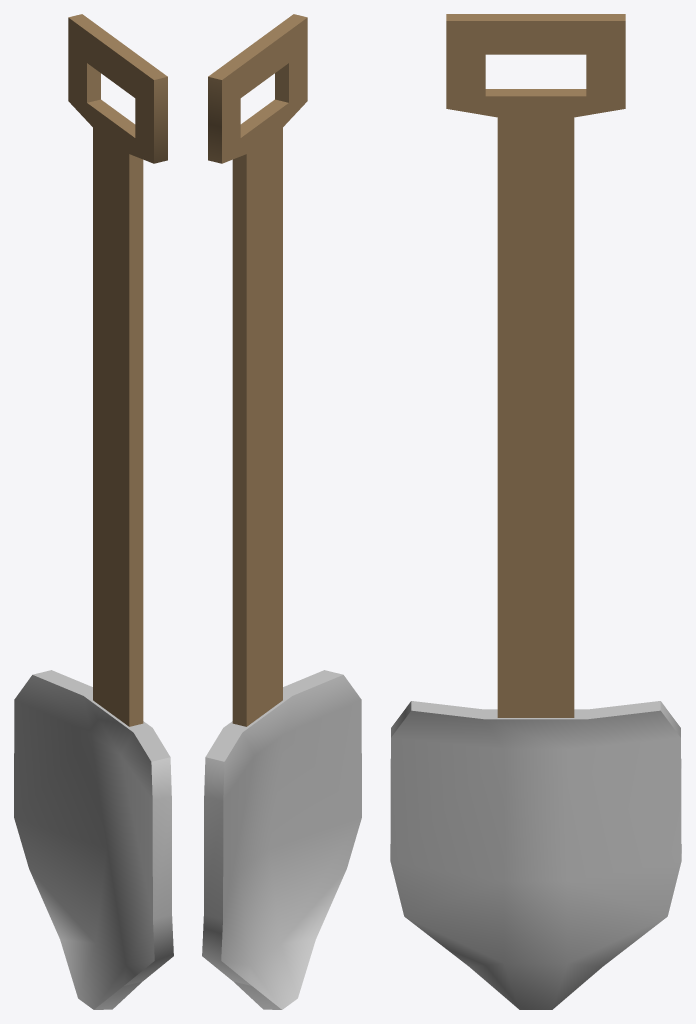
Rendered from shovel.fbx.
The picture shows the model from 3 angles, left to right: view 1: azimuth 30°, elevation 25°; view 2: azimuth 150°, elevation 25°; view 3: azimuth 270°, elevation 25°; orthographic projection. The views are drawn at different scales.
Visible parts, largest first — view 1: pCube3; view 2: pCube3; view 3: pCube3.
Part boxes in pixels (box(x1,y1,x2,y2)): pCube3: box(14, 14, 173, 1009); pCube3: box(202, 14, 361, 1009); pCube3: box(390, 14, 681, 1009).
Bounding box in the file's own units: 0.00218 × 0.0347 × 0.00917.
